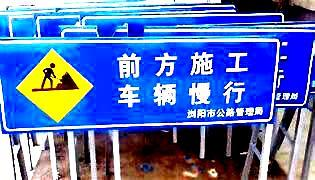sign: (5, 40, 272, 129)
